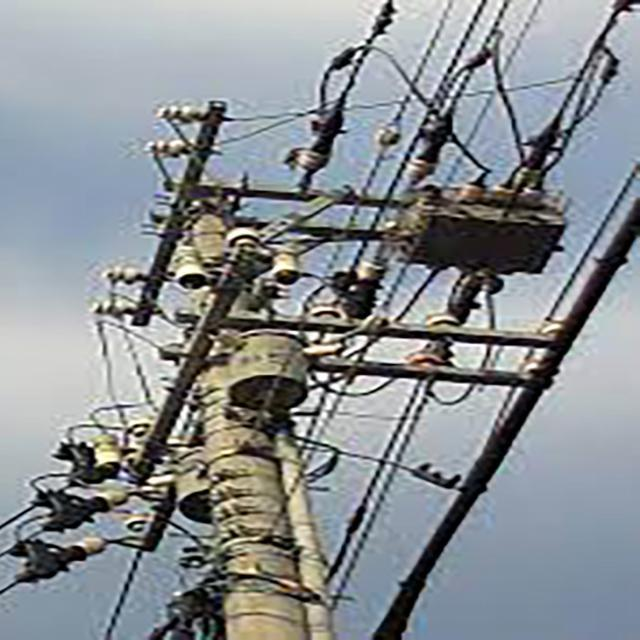pole: (43, 75, 602, 640)
